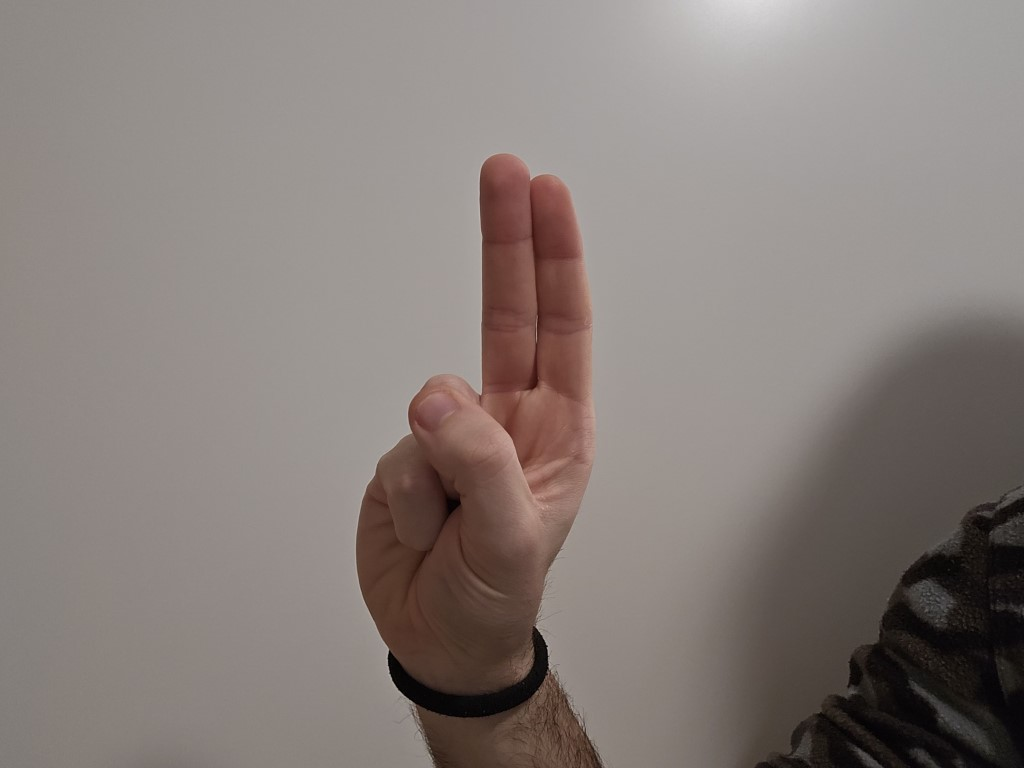u: (292, 138, 622, 651)
